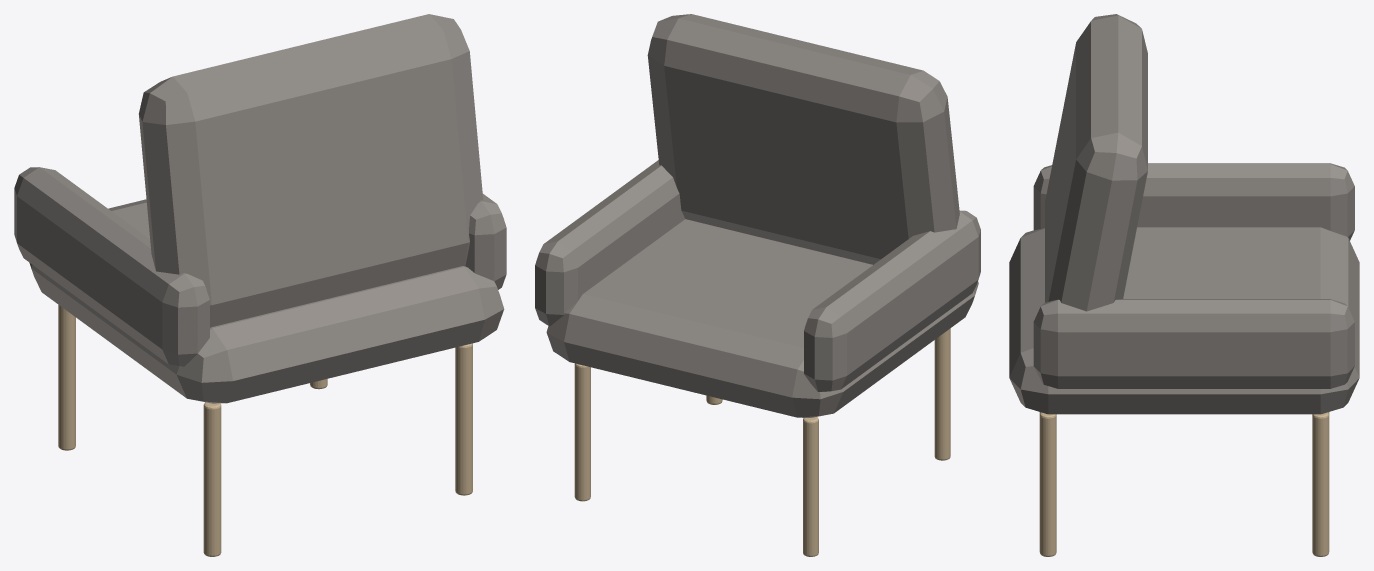
File: armchair.glb
3 views of the same model, side by side, from view 1: azimuth 30°, elevation 25°; view 2: azimuth 150°, elevation 25°; view 3: azimuth 270°, elevation 25° (orthographic). The views are drawn at different scales.
Parts seen in each view (by area): view 1: encosto, assento, braco.001, pe, braco, pe.002, pe.001; view 2: encosto, assento, braco.001, braco, pe.003, pe.001, pe; view 3: assento, braco, encosto, braco.001, pe.002, pe.003.
Part boxes in pixels (x1,y1,x2,y2): encosto: (138,14,483,327); assento: (29,199,504,403); braco.001: (14,167,209,366); pe: (203,402,221,556); braco: (465,193,506,289); pe.002: (455,343,472,495); pe.001: (58,305,75,450); encosto: (647,14,959,264); assento: (546,219,978,417); braco.001: (804,210,980,391); braco: (535,160,684,326); pe.003: (574,363,590,501); pe.001: (803,417,818,556); pe: (934,328,950,460); assento: (1009,227,1359,414); braco: (1033,299,1354,388); encosto: (1045,14,1147,311); braco.001: (1033,163,1354,240); pe.002: (1039,412,1056,556); pe.003: (1312,412,1329,556).
Size of the model in its own units: 0.76 by 0.9581 by 0.72.
